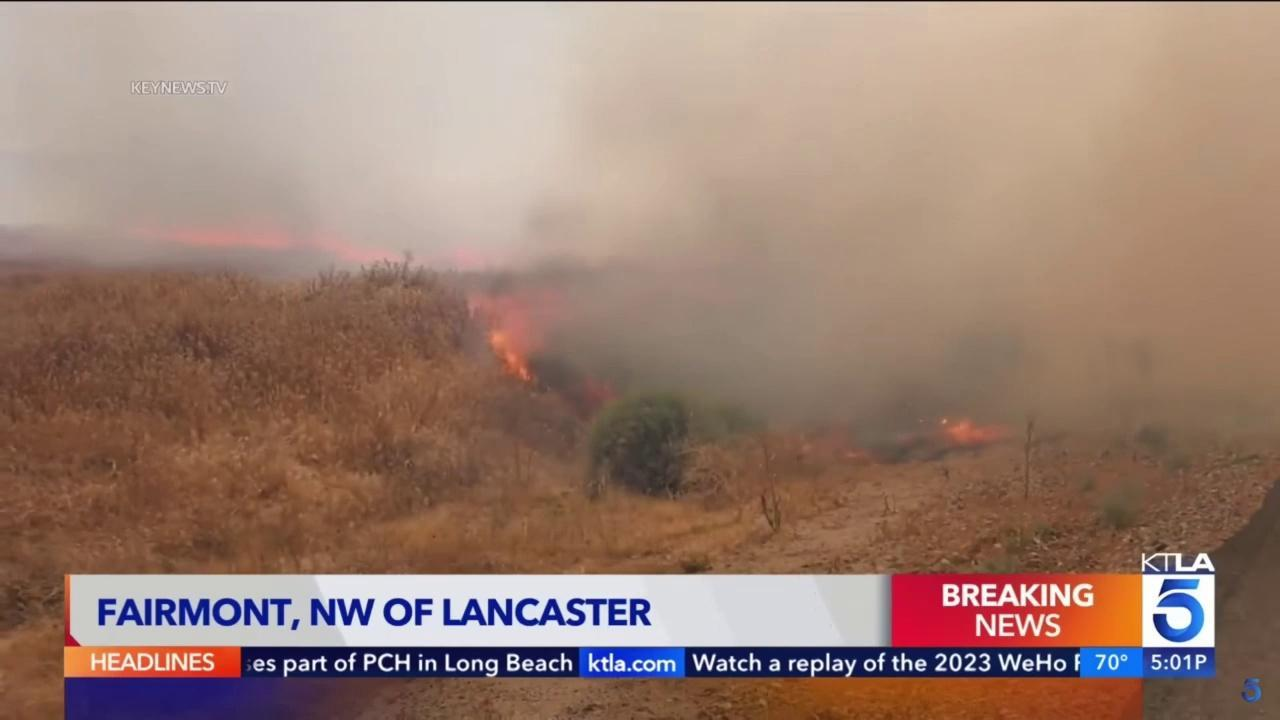fire: (134, 225, 412, 271), (451, 291, 546, 386), (903, 408, 1021, 450)
smoke: (0, 0, 1280, 463)
